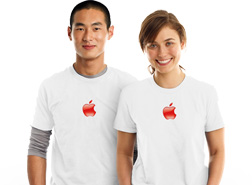Apple: (155, 99, 190, 127), (76, 92, 105, 125)
